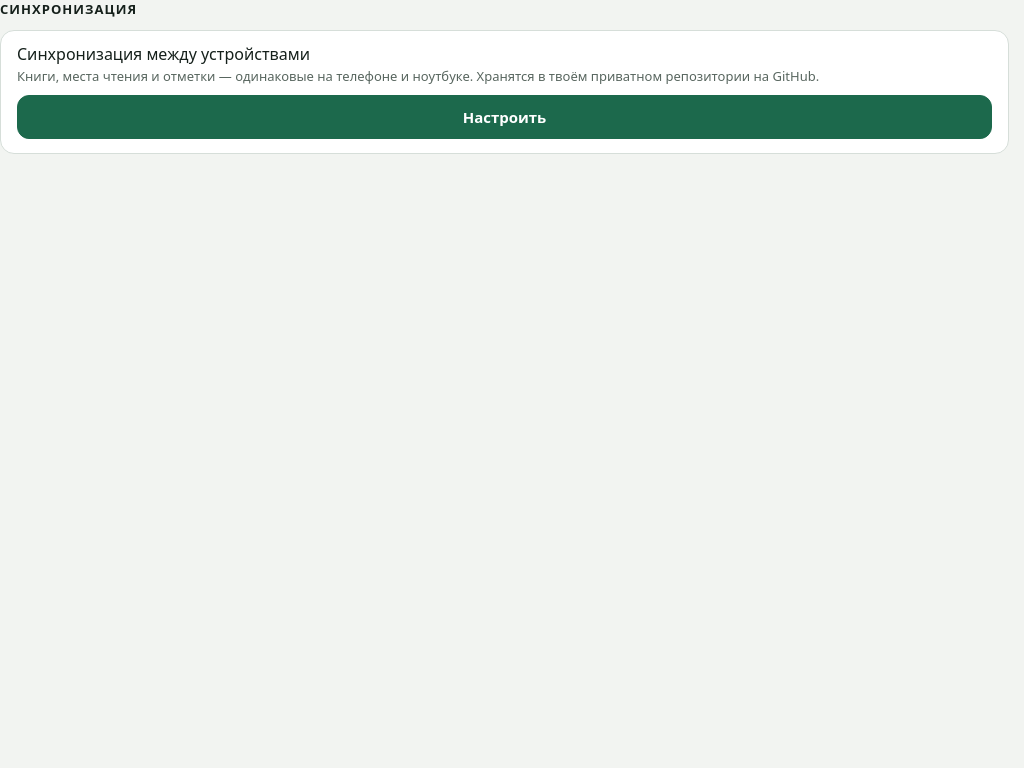
it: SyncSection: выключена › «Настроить» открывает шторку с шагами, ссылками на GitHub и полями
Click the button "Настроить" at point(504, 117), box [17, 95, 992, 139]
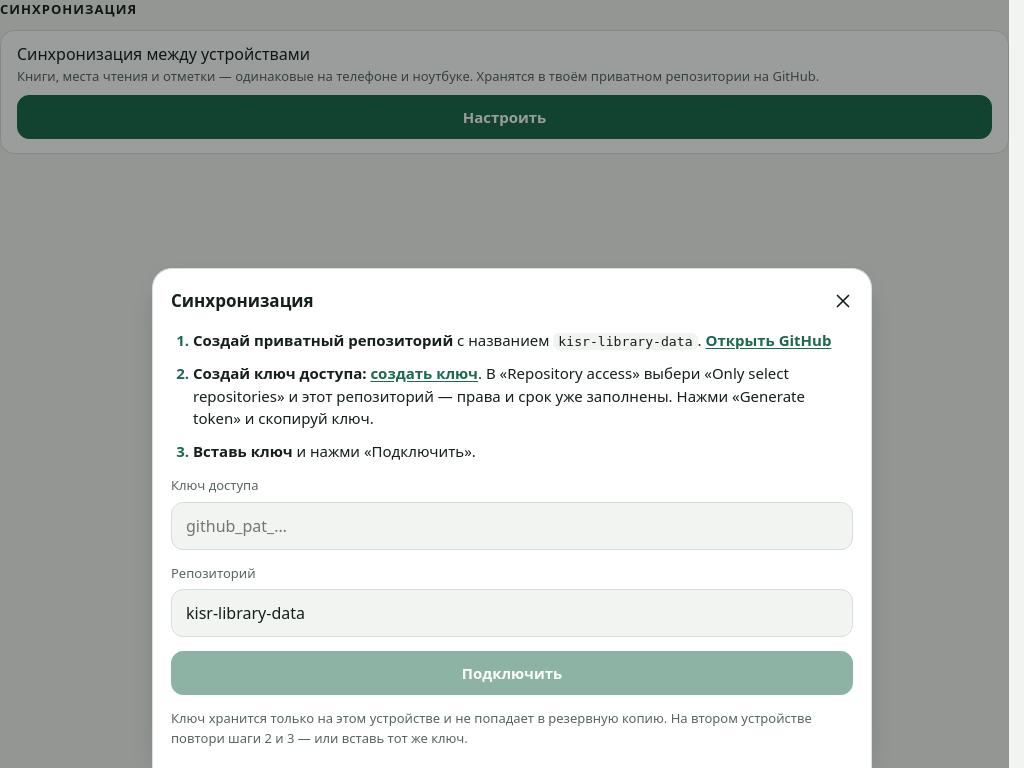
Now the heading with class "sheet__title" reads "Синхронизация", box [171, 289, 314, 312]
Now the field named "repo" holds "kisr-library-data", box [171, 589, 853, 637]
